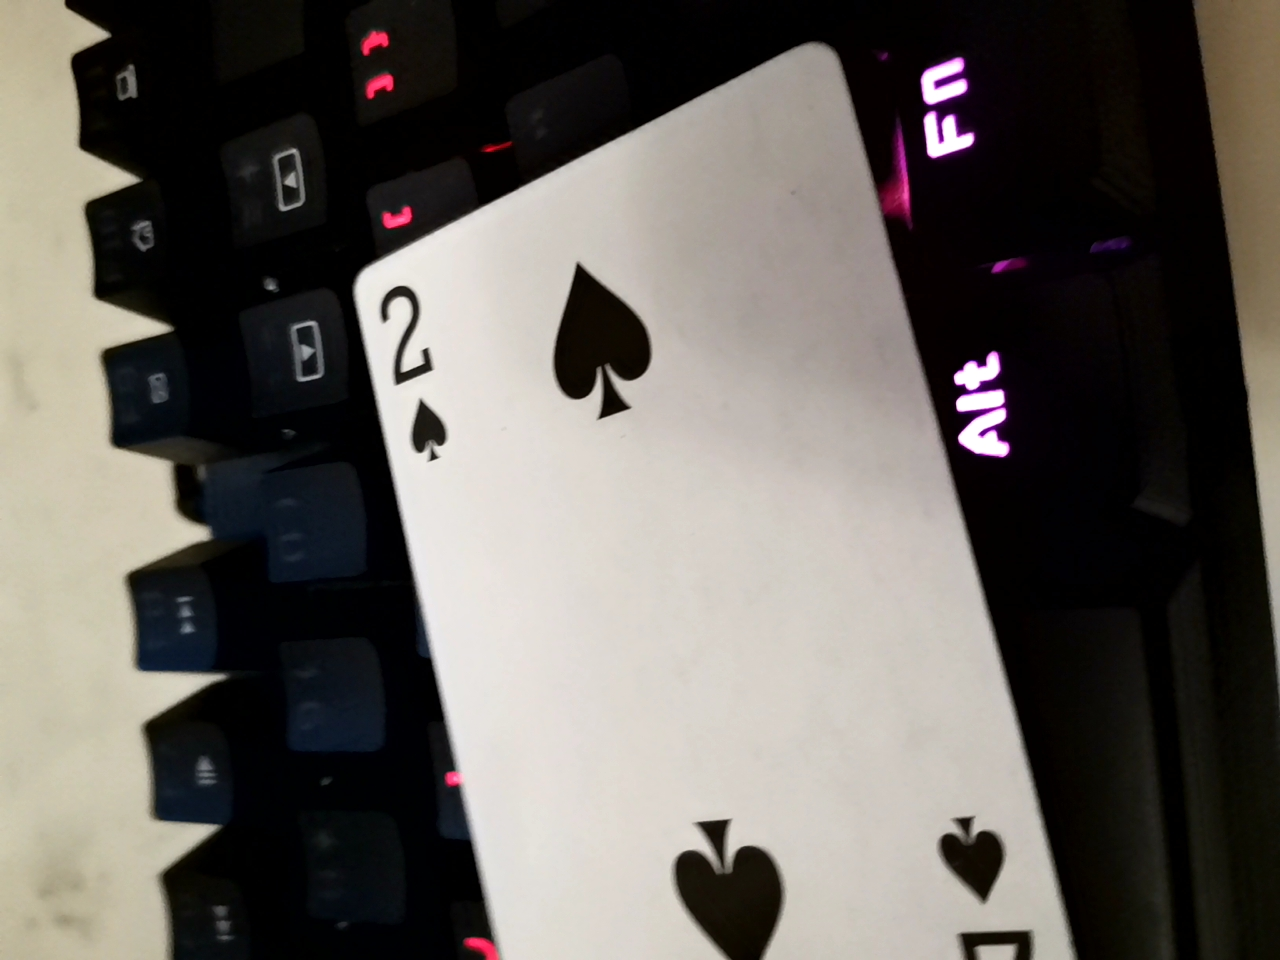ht 2: (364, 19, 1099, 960)
